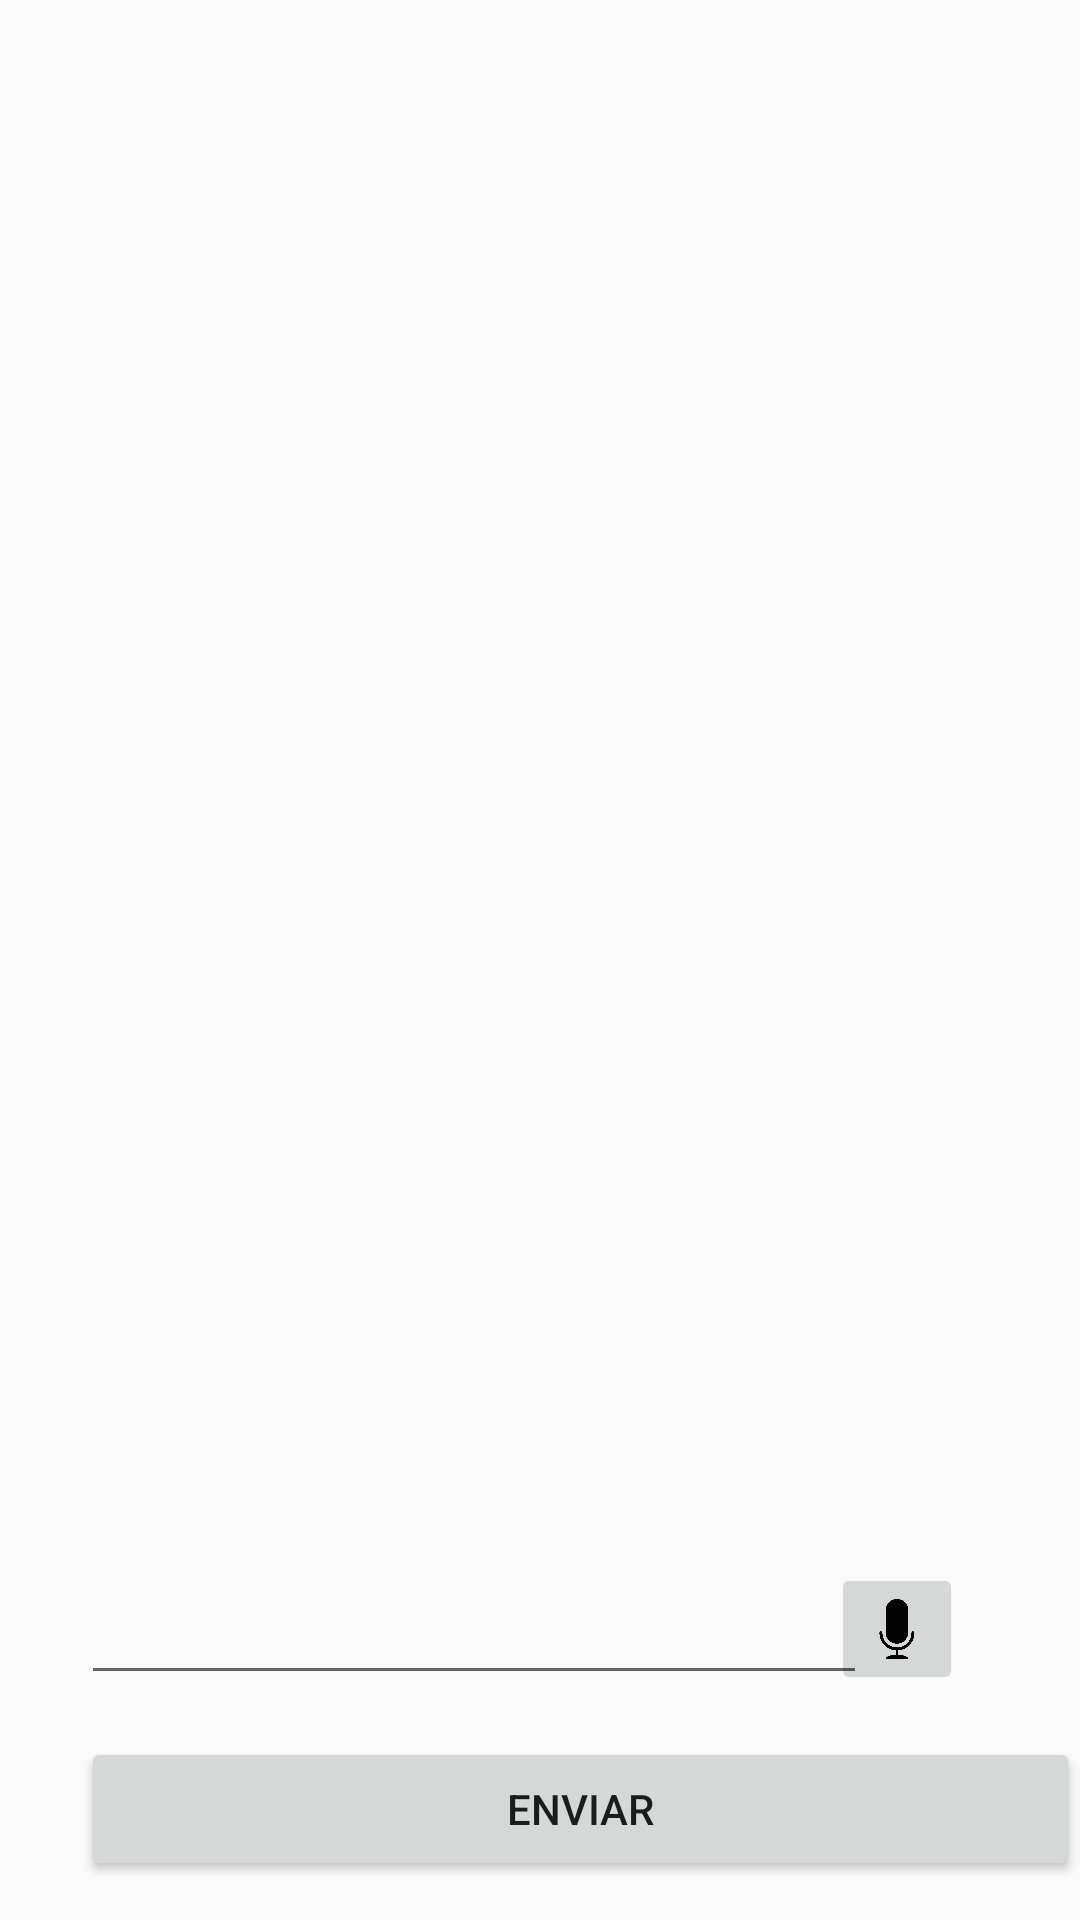

Locate icon controls on the screen. Image size 1080px x 1920px, boxes as (x1=x1, y1=y1, x2=x2, y2=y2).
Button to start the speech recognition: (x1=831, y1=1581, x2=951, y2=1677)
